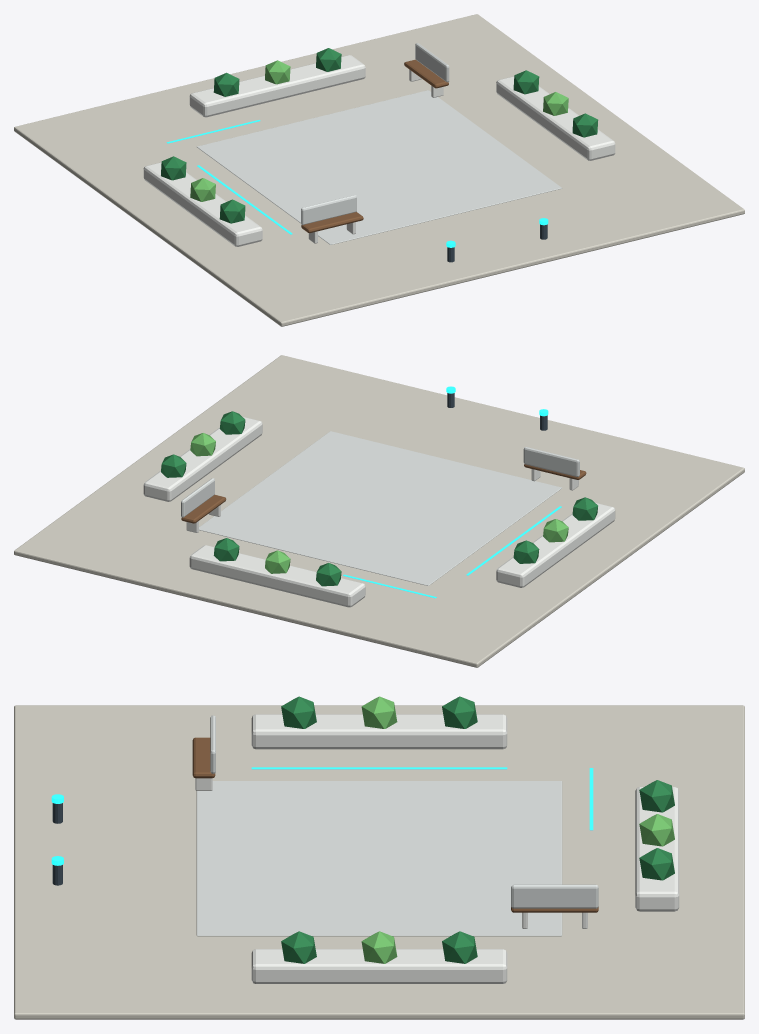
The model's file is lot-plaza.glb.
3 views of the same model, one above another, from view 1: azimuth 30°, elevation 25°; view 2: azimuth 150°, elevation 25°; view 3: azimuth 270°, elevation 25° (orthographic). The views are drawn at different scales.
Visible parts, largest first — view 1: lot_plaza__Tile_Plaza_06, lot_plaza__Plaza_OpenSpace_02, lot_plaza__Plaza_PlantingBed_West_05, lot_plaza__Plaza_PlantingBed_South_04, lot_plaza__Plaza_PlantingBed_North_03, lot_plaza__Bench_Plaza_2_08, lot_plaza__Bench_Plaza_1_07, lot_plaza__Plaza_GuideLine_01; view 2: lot_plaza__Tile_Plaza_06, lot_plaza__Plaza_OpenSpace_02, lot_plaza__Plaza_PlantingBed_West_05, lot_plaza__Plaza_PlantingBed_South_04, lot_plaza__Plaza_PlantingBed_North_03, lot_plaza__Bench_Plaza_2_08, lot_plaza__Bench_Plaza_1_07, lot_plaza__Plaza_GuideLine_01; view 3: lot_plaza__Tile_Plaza_06, lot_plaza__Plaza_OpenSpace_02, lot_plaza__Plaza_PlantingBed_South_04, lot_plaza__Plaza_PlantingBed_North_03, lot_plaza__Plaza_PlantingBed_West_05, lot_plaza__Bench_Plaza_1_07, lot_plaza__Bench_Plaza_2_08, lot_plaza__Plaza_GuideLine_01.
Part boxes in pixels (left/top/right/bottom): lot_plaza__Tile_Plaza_06: left=14, top=14, right=744, bottom=326; lot_plaza__Plaza_OpenSpace_02: left=197, top=90, right=562, bottom=244; lot_plaza__Plaza_PlantingBed_West_05: left=189, top=48, right=365, bottom=117; lot_plaza__Plaza_PlantingBed_South_04: left=143, top=156, right=262, bottom=246; lot_plaza__Plaza_PlantingBed_North_03: left=496, top=70, right=615, bottom=160; lot_plaza__Bench_Plaza_2_08: left=301, top=195, right=363, bottom=243; lot_plaza__Bench_Plaza_1_07: left=404, top=43, right=449, bottom=97; lot_plaza__Plaza_GuideLine_01: left=166, top=120, right=292, bottom=234; lot_plaza__Tile_Plaza_06: left=14, top=355, right=744, bottom=667; lot_plaza__Plaza_OpenSpace_02: left=199, top=431, right=561, bottom=585; lot_plaza__Plaza_PlantingBed_West_05: left=189, top=538, right=365, bottom=607; lot_plaza__Plaza_PlantingBed_South_04: left=496, top=497, right=615, bottom=587; lot_plaza__Plaza_PlantingBed_North_03: left=143, top=411, right=262, bottom=501; lot_plaza__Bench_Plaza_2_08: left=523, top=447, right=586, bottom=490; lot_plaza__Bench_Plaza_1_07: left=181, top=478, right=226, bottom=532; lot_plaza__Plaza_GuideLine_01: left=343, top=506, right=561, bottom=598; lot_plaza__Tile_Plaza_06: left=14, top=705, right=744, bottom=1019; lot_plaza__Plaza_OpenSpace_02: left=196, top=781, right=562, bottom=936; lot_plaza__Plaza_PlantingBed_South_04: left=251, top=696, right=507, bottom=749; lot_plaza__Plaza_PlantingBed_North_03: left=251, top=931, right=507, bottom=983; lot_plaza__Plaza_PlantingBed_West_05: left=635, top=780, right=679, bottom=911; lot_plaza__Bench_Plaza_1_07: left=511, top=884, right=598, bottom=928; lot_plaza__Bench_Plaza_2_08: left=192, top=715, right=215, bottom=790; lot_plaza__Plaza_GuideLine_01: left=251, top=767, right=593, bottom=830.
Bounding box in the file's own units: 20 × 1.78 × 20.
